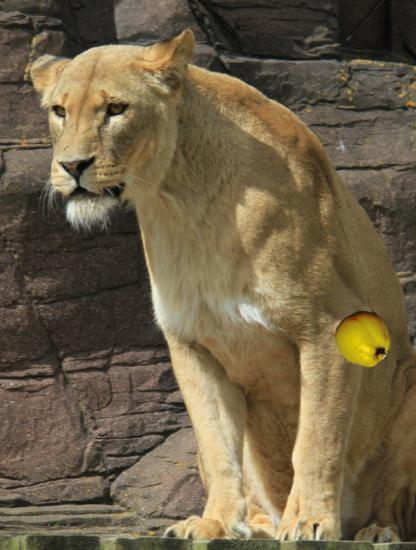Quince: (335, 309, 393, 367)
